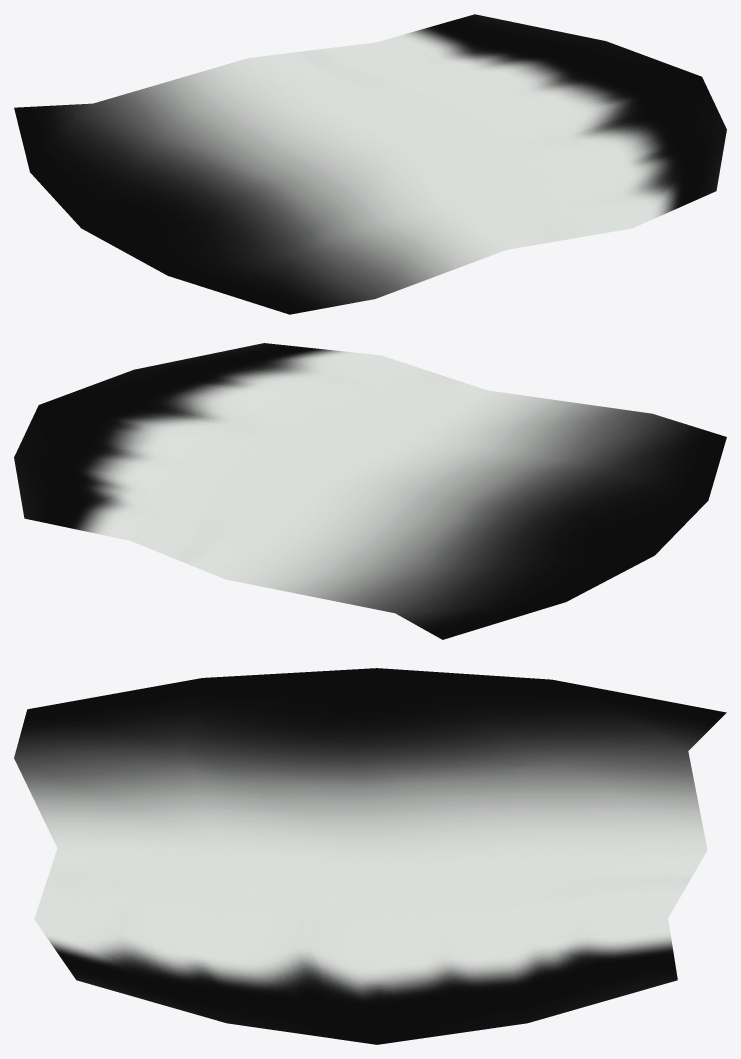
Rendered from waterfall_topcap.fbx.
3 views of the same model, one above another, from view 1: azimuth 30°, elevation 25°; view 2: azimuth 150°, elevation 25°; view 3: azimuth 270°, elevation 25° (orthographic). The views are drawn at different scales.
Parts seen in each view (by area): view 1: obj0.187; view 2: obj0.187; view 3: obj0.187.
Boxes of the visible parts, x1,y1,x2,y2 form: obj0.187: [14, 14, 726, 314]; obj0.187: [14, 343, 726, 639]; obj0.187: [14, 668, 726, 1044].
Bounding box in the file's own units: 9.31 × 0.00329 × 7.44.
